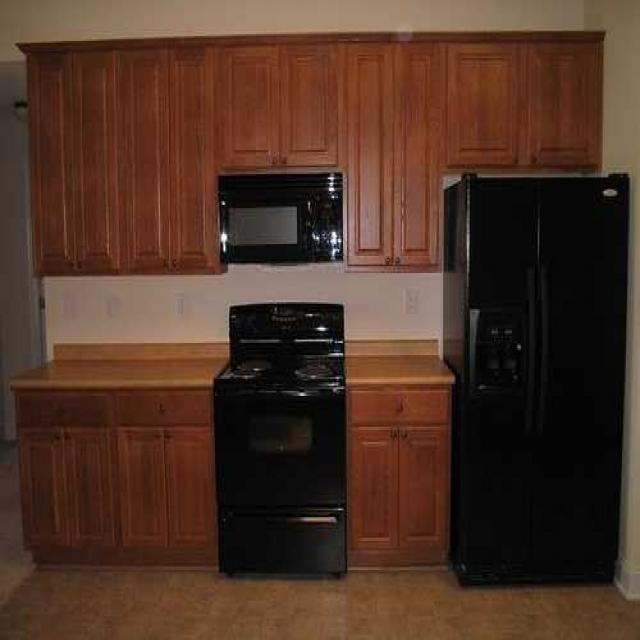refrigerator: (448, 176, 635, 608)
